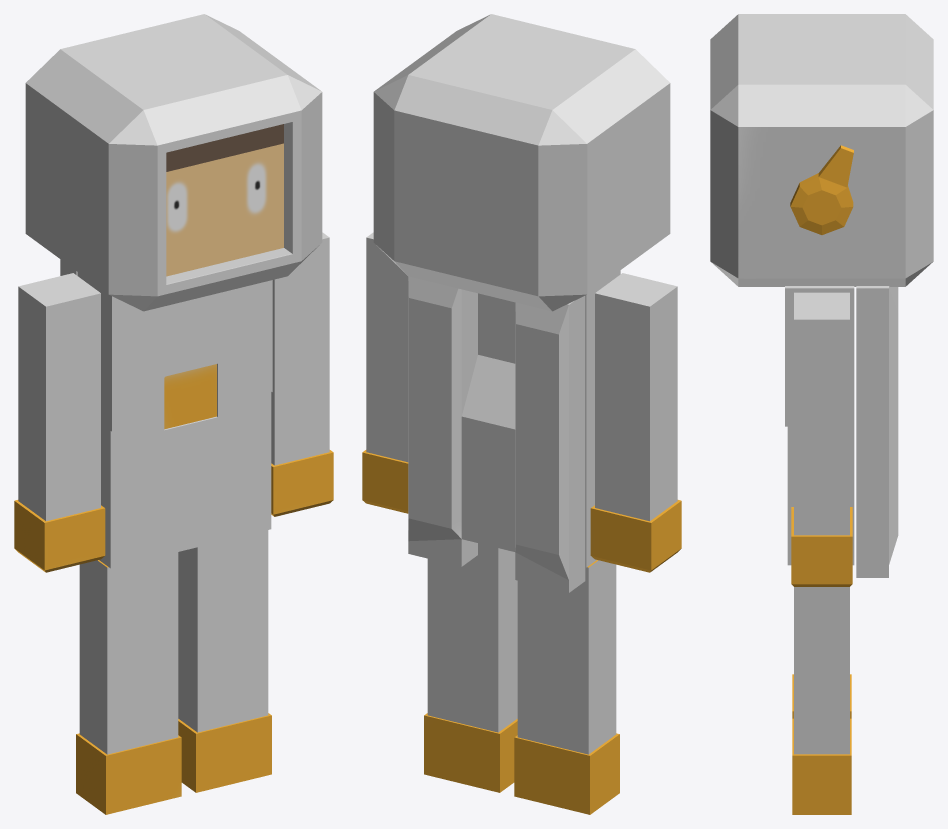
The model's file is BaseCharacter.fbx.
3 renders of one model, left to right at view 1: azimuth 30°, elevation 25°; view 2: azimuth 150°, elevation 25°; view 3: azimuth 270°, elevation 25°, orthographic.
Visible parts, largest first — view 1: Character; view 2: Character; view 3: Character.
Part boxes in pixels (box(x1,y1,x2,y2)): Character: box(14, 14, 333, 814); Character: box(362, 14, 681, 814); Character: box(710, 14, 933, 814).
Bounding box in the file's own units: 359 × 857 × 239.
Materials: 2 (1 with a texture image).
